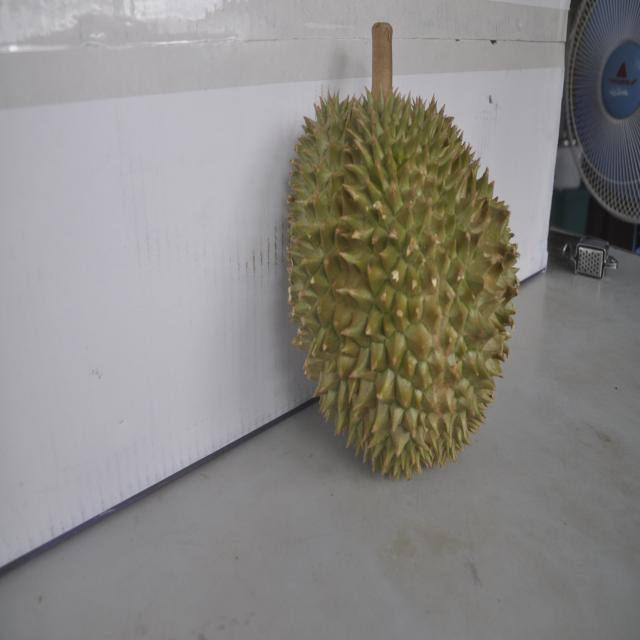mature: (289, 72, 512, 480)
